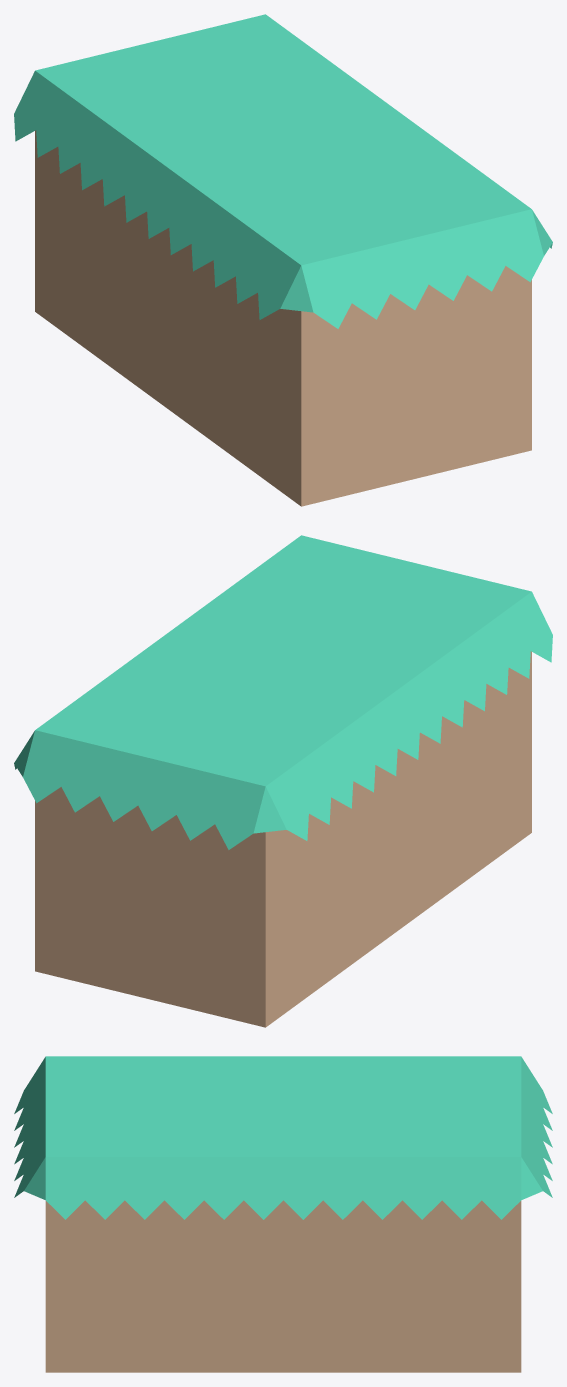
File: blockLong.glb
The picture shows the model from 3 angles, top to bottom: view 1: azimuth 30°, elevation 25°; view 2: azimuth 150°, elevation 25°; view 3: azimuth 270°, elevation 25°; orthographic projection. The views are drawn at different scales.
Parts seen in each view (by area): view 1: blockLong; view 2: blockLong; view 3: blockLong.
Boxes of the visible parts, x1,y1,x2,y2 form: blockLong: (14,14,552,506); blockLong: (14,535,552,1027); blockLong: (14,1056,552,1372).
Size of the model in its own units: 1.27 by 1 by 2.27.
